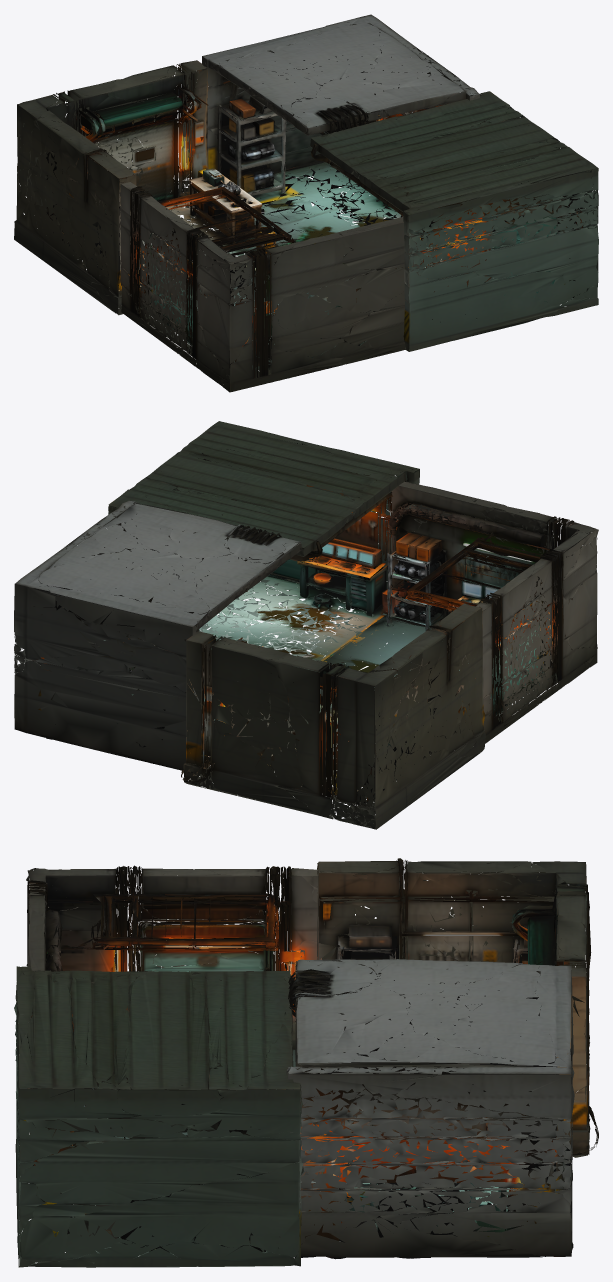
The model's file is default_warehouse.glb.
3 renders of one model, top to bottom at view 1: azimuth 30°, elevation 25°; view 2: azimuth 150°, elevation 25°; view 3: azimuth 270°, elevation 25°, orthographic. The views are drawn at different scales.
Visible parts, largest first — view 1: node_0.002; view 2: node_0.002; view 3: node_0.002.
Part boxes in pixels (x1,y1,x2,y2): node_0.002: [14, 14, 598, 392]; node_0.002: [14, 421, 598, 829]; node_0.002: [14, 858, 598, 1267].
Size of the model in its own units: 6.46 by 2.58 by 6.75.
4 materials, 4 textured.
